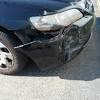front-bumper-dent: (4, 26, 99, 67)
